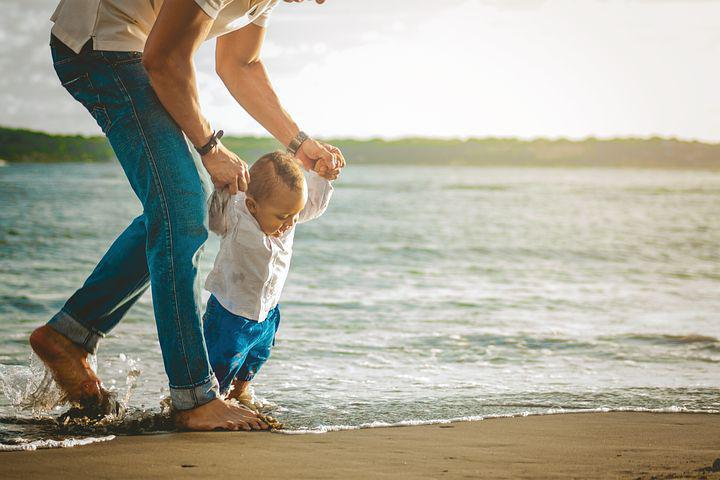child: (194, 138, 345, 407)
